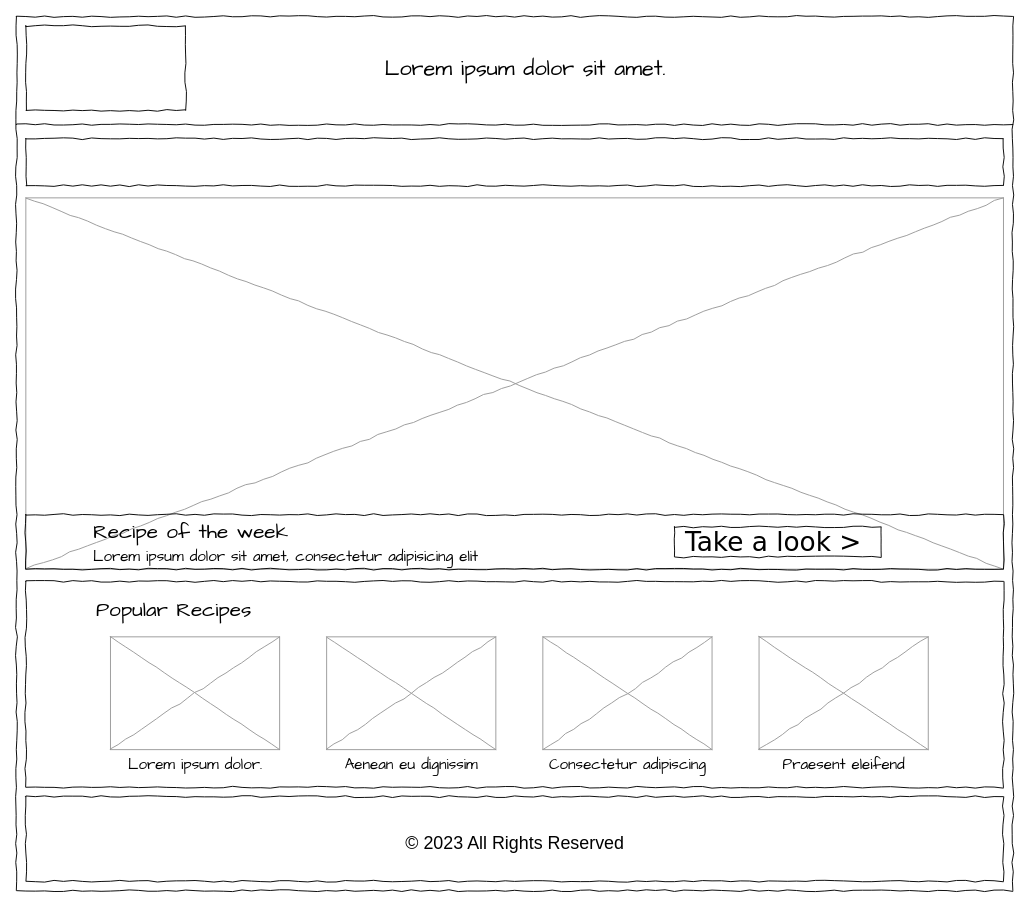
The diagram is 1029 pixels wide and 907 high, and some of its shapes have lost their labels. The centre of each missing label's shape, as x and y in pixels:
ALL RECIPES | CUISINE | COURSES | DIET: [514,162]
LOGO: [105,67]
